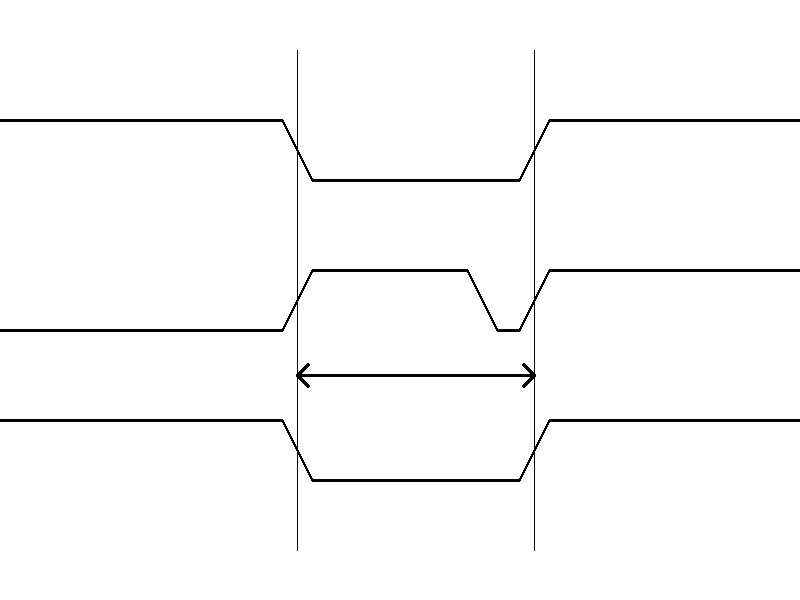double_arrow: (297, 360, 534, 390)
